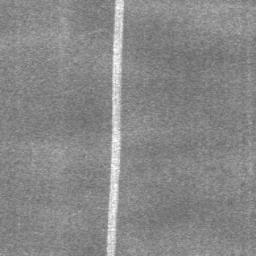Bright scratch: (107, 0, 124, 256)
